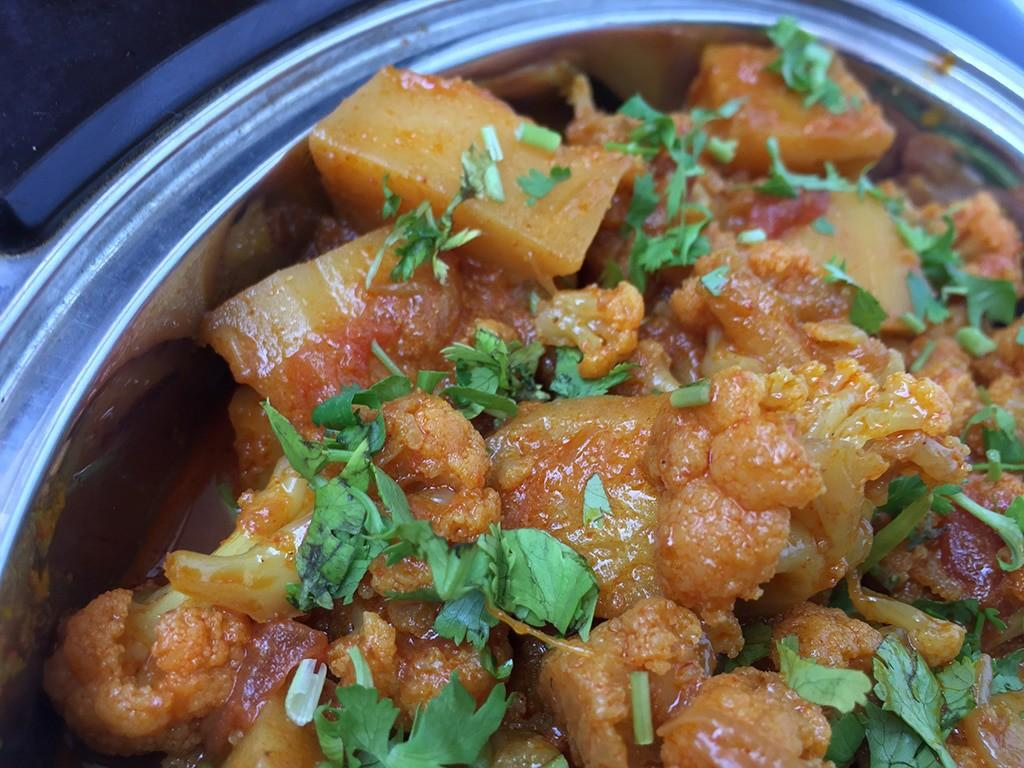AlooGobi: (50, 24, 1024, 768)
